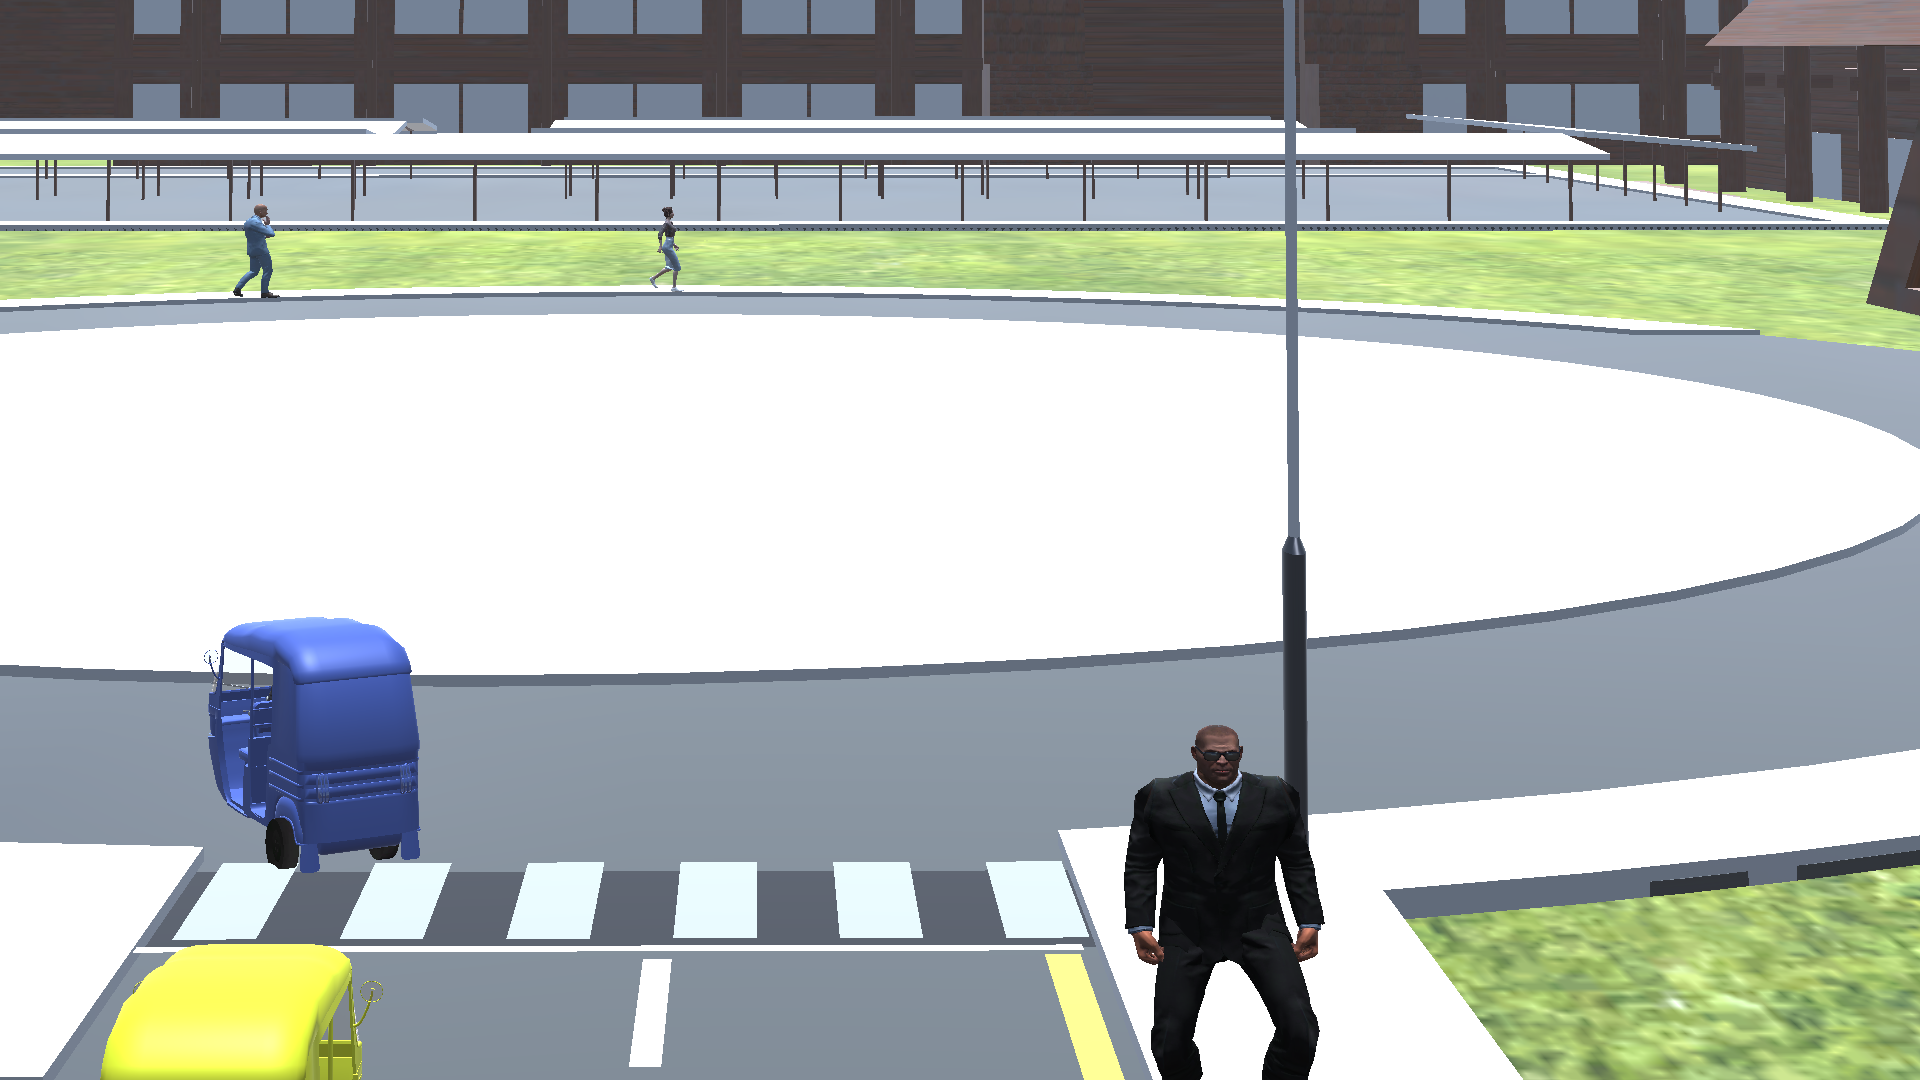pedestrian: (1119, 712, 1341, 1080), (231, 201, 278, 303), (645, 202, 687, 298)
